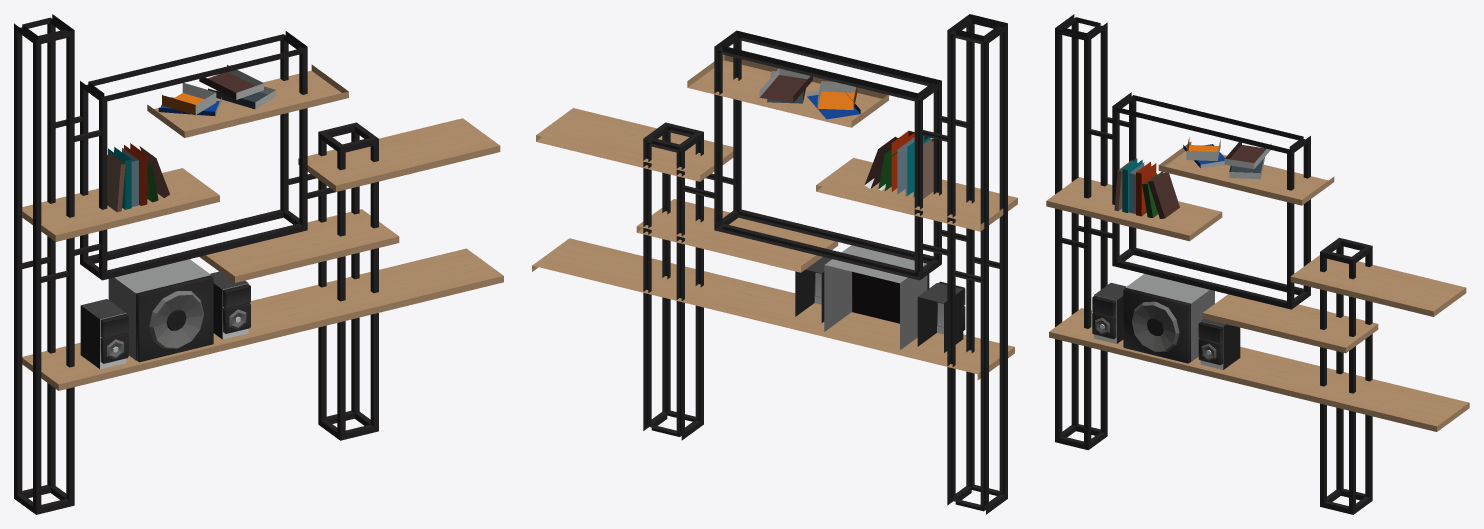
File: M_zhuangshiqiangL07.FBX
The picture shows the model from 3 angles, left to right: view 1: azimuth 30°, elevation 25°; view 2: azimuth 150°, elevation 25°; view 3: azimuth 330°, elevation 25°; orthographic projection. The views are drawn at different scales.
Visible parts, largest first — view 1: M_zhuangshiqiangL07_01, M_zhuangshiqiangL07_02, M_zhuangshiqiangL07_03; view 2: M_zhuangshiqiangL07_01, M_zhuangshiqiangL07_02, M_zhuangshiqiangL07_03; view 3: M_zhuangshiqiangL07_01, M_zhuangshiqiangL07_02, M_zhuangshiqiangL07_03.
Part boxes in pixels (<box>): M_zhuangshiqiangL07_01: <box>14,14,378,514</box>; M_zhuangshiqiangL07_02: <box>22,64,503,390</box>; M_zhuangshiqiangL07_03: <box>100,65,275,363</box>; M_zhuangshiqiangL07_01: <box>643,14,1007,514</box>; M_zhuangshiqiangL07_02: <box>532,55,1017,380</box>; M_zhuangshiqiangL07_03: <box>759,68,965,330</box>; M_zhuangshiqiangL07_01: <box>1055,14,1372,514</box>; M_zhuangshiqiangL07_02: <box>1046,141,1469,431</box>; M_zhuangshiqiangL07_03: <box>1092,137,1271,365</box>.
Bounding box in the file's own units: 3.8 × 3.81 × 0.6332.
